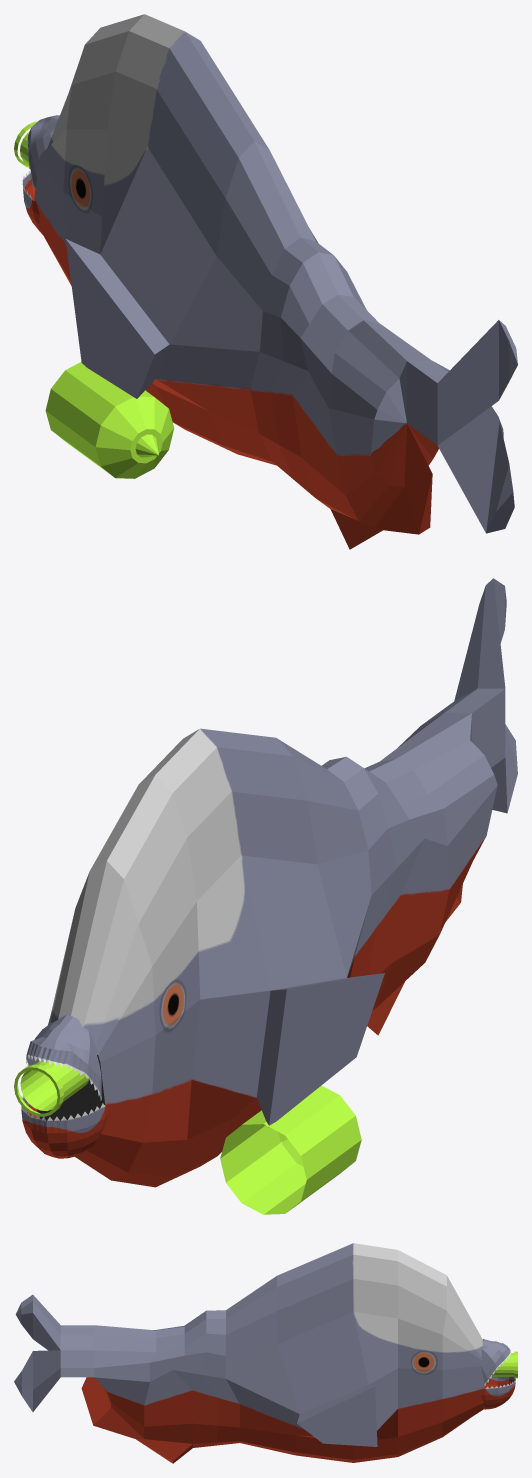
Rendered from Piranha model.fbx.
3 renders of one model, top to bottom at view 1: azimuth 30°, elevation 25°; view 2: azimuth 150°, elevation 25°; view 3: azimuth 270°, elevation 25°, orthographic. The views are drawn at different scales.
Parts seen in each view (by area): view 1: pCylinder6; view 2: pCylinder6; view 3: pCylinder6.
Boxes of the visible parts, x1=… form: pCylinder6: x1=14, y1=14, x2=517, y2=549; pCylinder6: x1=14, y1=578, x2=517, y2=1214; pCylinder6: x1=14, y1=1243, x2=517, y2=1463.
Bounding box in the file's own units: 79.46 × 140 × 285.
